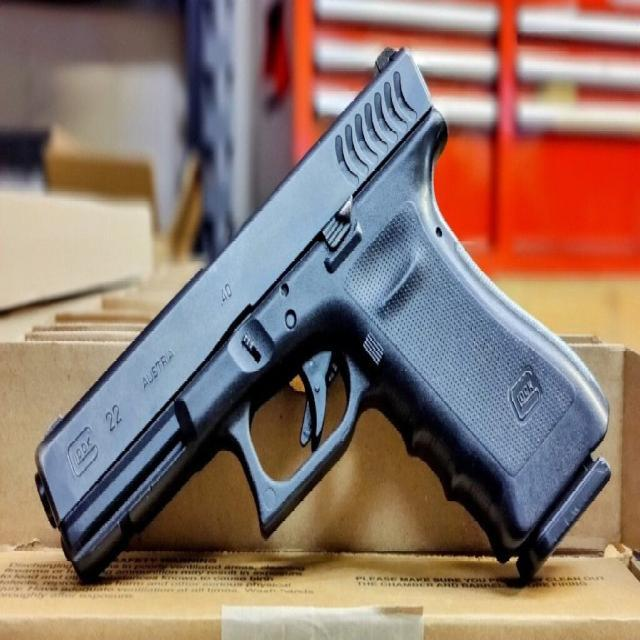pistol: (25, 29, 621, 596)
